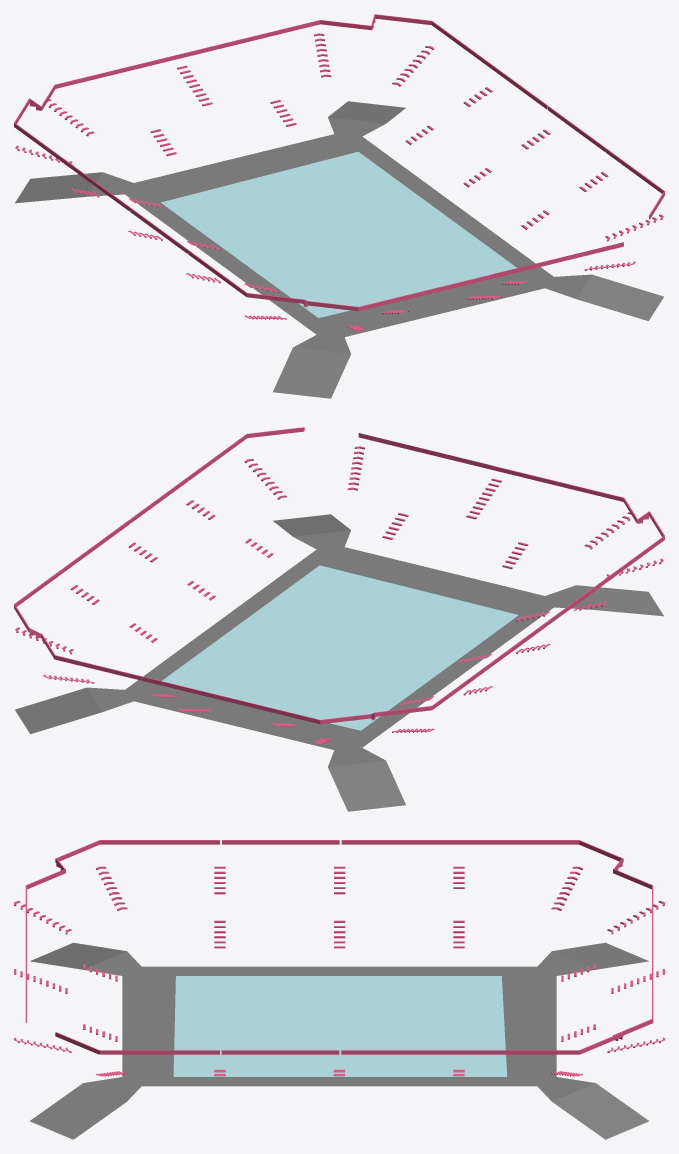
File: Kobe_04.fbx
The picture shows the model from 3 angles, top to bottom: view 1: azimuth 30°, elevation 25°; view 2: azimuth 150°, elevation 25°; view 3: azimuth 270°, elevation 25°; orthographic projection. The views are drawn at different scales.
Visible parts, largest first — view 1: Kobe_Stadium04; view 2: Kobe_Stadium04; view 3: Kobe_Stadium04.
Boxes of the visible parts, x1,y1,x2,y2 form: Kobe_Stadium04: [14, 14, 664, 398]; Kobe_Stadium04: [14, 427, 664, 811]; Kobe_Stadium04: [14, 840, 664, 1139].
Size of the model in its own units: 6667 by 1414 by 8709.
